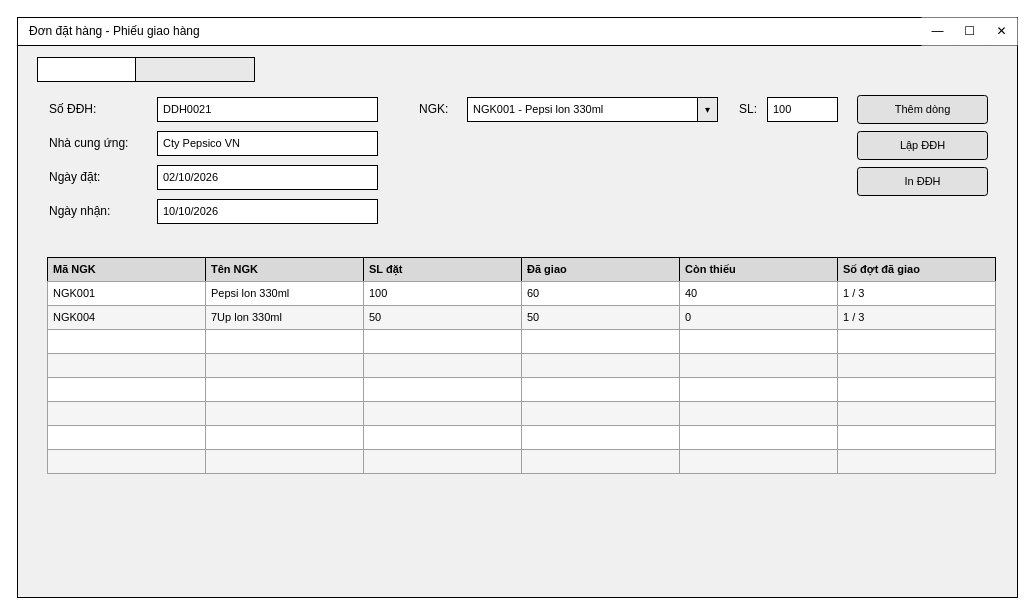
The diagram is 1035 pixels wide and 615 high, and some of its shapes have lost their labels. The centre of each missing label's shape, as x and y in pixels:
Phiếu giao hàng: (x=194, y=69)
Đơn đặt hàng: (x=86, y=69)
